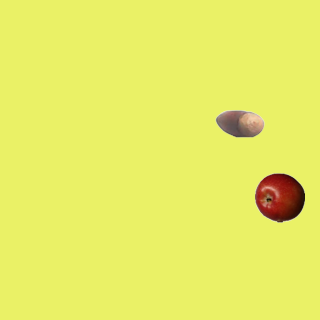Apple Braeburn: (254, 172, 304, 222)
Hazelnut: (214, 98, 264, 148)
